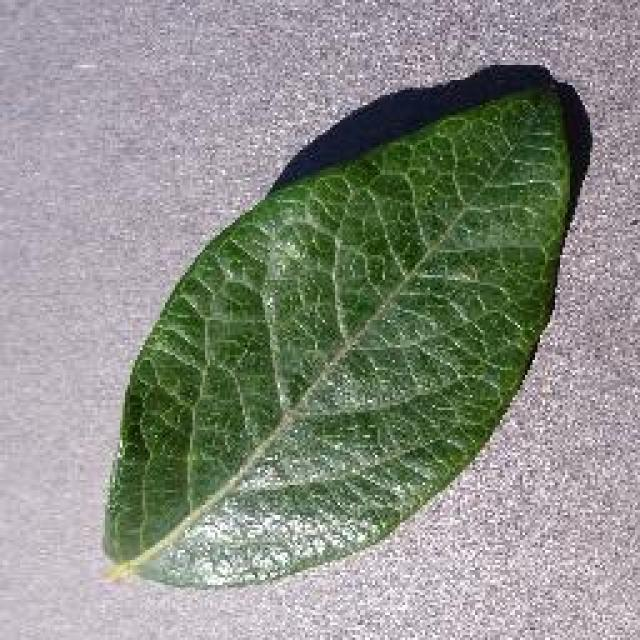Blu_healthy: (158, 166, 558, 560)
